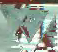Give way: (1, 0, 54, 50)
